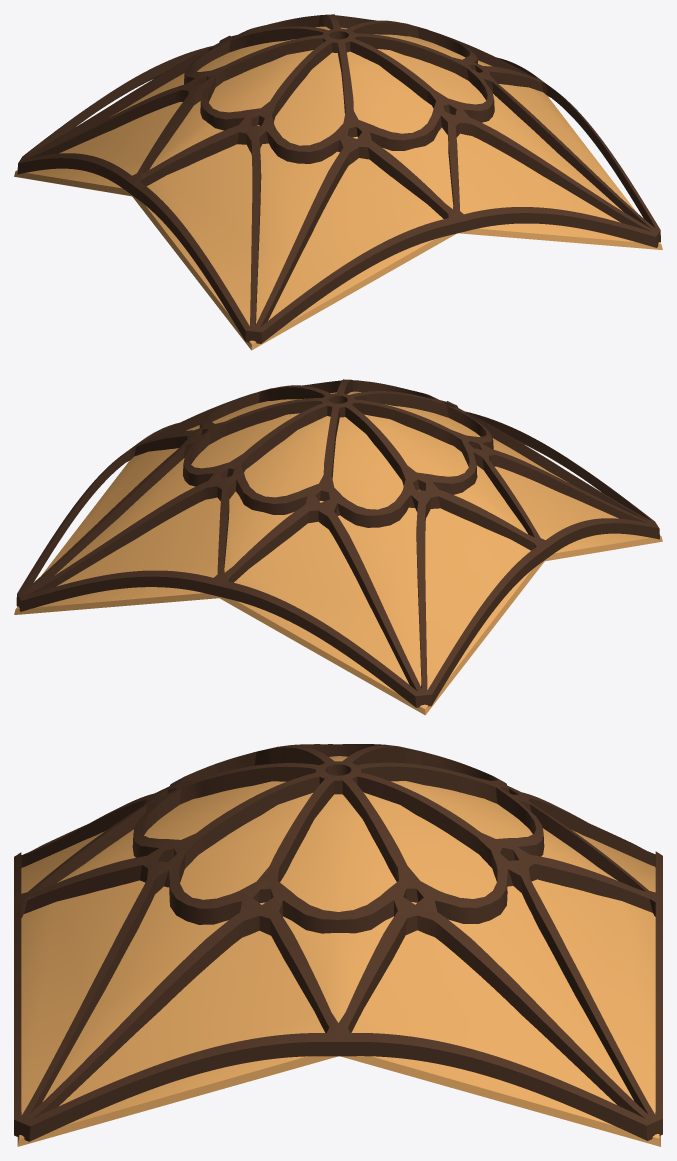
Rendered from roof.fbx.
The picture shows the model from 3 angles, top to bottom: view 1: azimuth 30°, elevation 25°; view 2: azimuth 150°, elevation 25°; view 3: azimuth 270°, elevation 25°; orthographic projection. The views are drawn at different scales.
Visible parts, largest first — view 1: ceiling.001; view 2: ceiling.001; view 3: ceiling.001.
Part boxes in pixels (x1,y1,x2,y2): ceiling.001: (14,14,662,350); ceiling.001: (14,379,662,715); ceiling.001: (14,744,662,1146).
Size of the model in its own units: 8.11 by 8.11 by 3.33.
